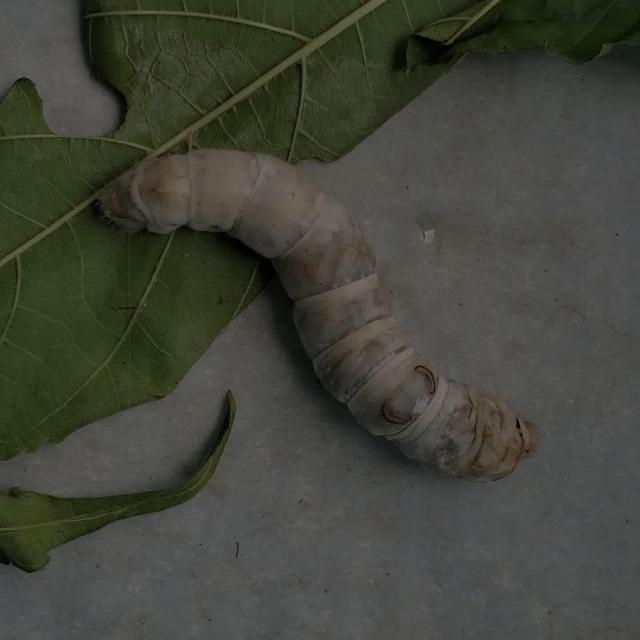Grasserie: (66, 112, 547, 502)
